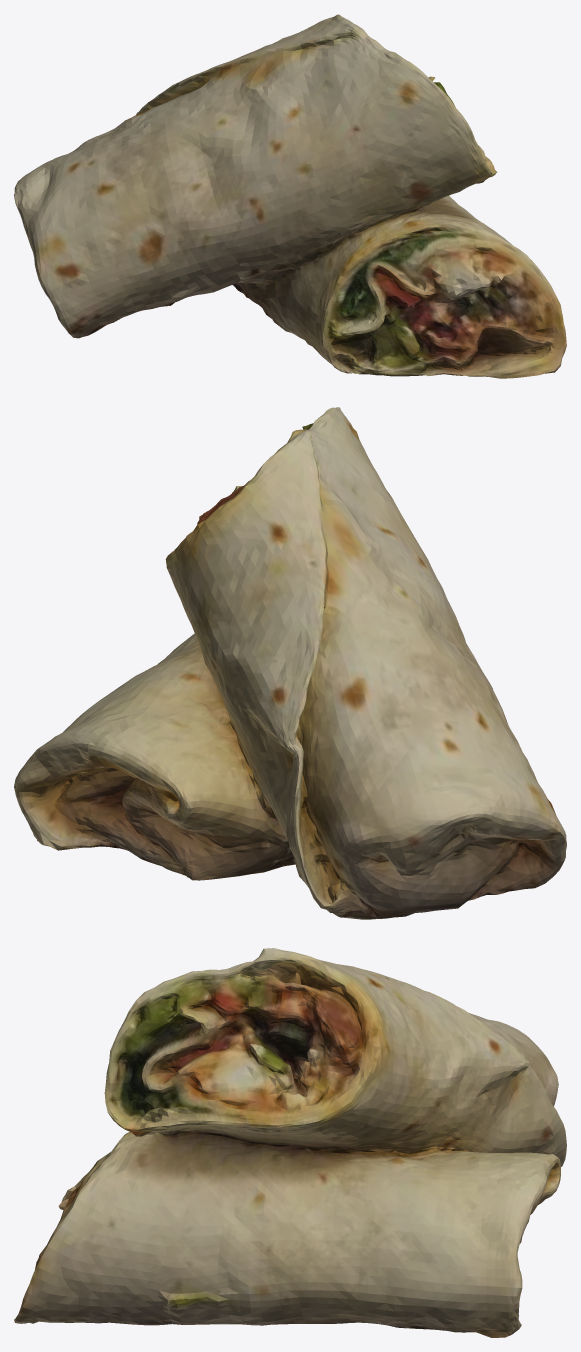
The model's file is 3d_shawarma_sample-v1.glb.
3 views of the same model, one above another, from view 1: azimuth 30°, elevation 25°; view 2: azimuth 150°, elevation 25°; view 3: azimuth 270°, elevation 25° (orthographic). The views are drawn at different scales.
Size of the model in its own units: 2.33 by 1.62 by 2.5.
1 material, 1 textured.
